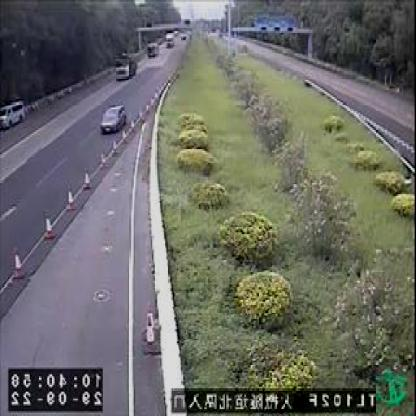Car: (98, 99, 130, 132), (1, 99, 26, 132), (144, 40, 160, 57)
Truck: (116, 50, 139, 80)
